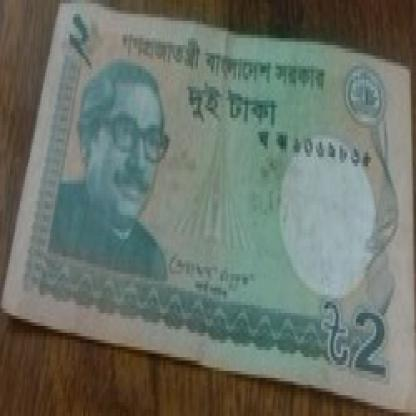two taka: (346, 291, 403, 385), (66, 7, 110, 73)
